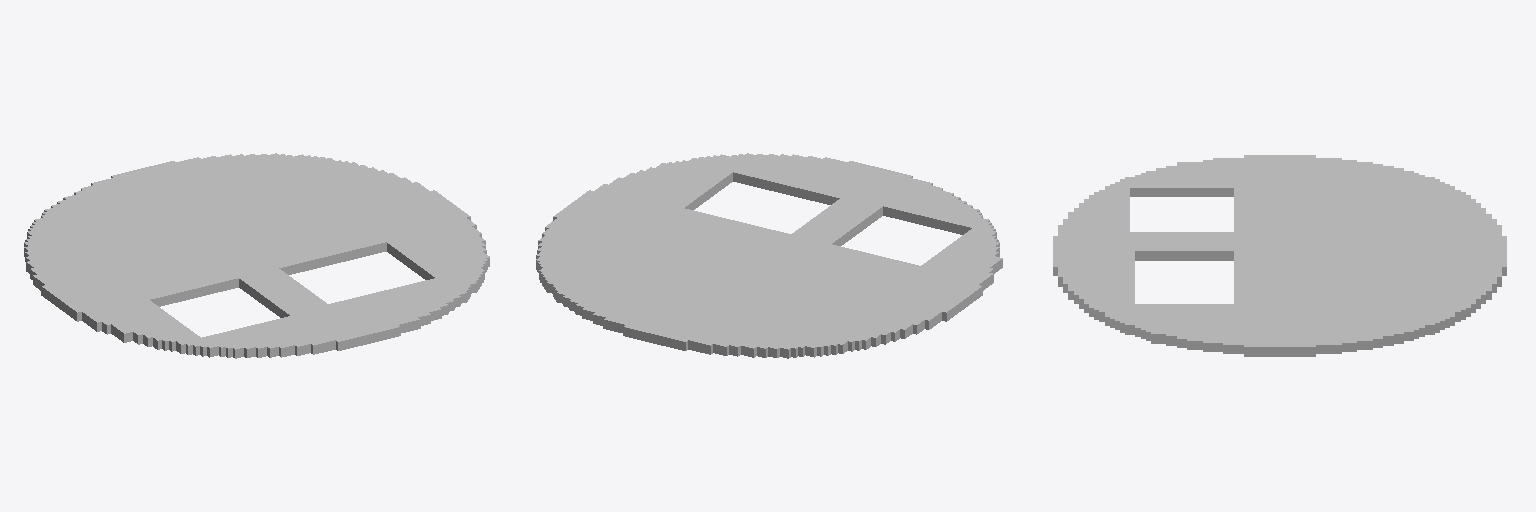
File: 2 лвл-6.obj
The picture shows the model from 3 angles: view 1: azimuth 30°, elevation 25°; view 2: azimuth 150°, elevation 25°; view 3: azimuth 270°, elevation 25°; orthographic projection.
Parts seen in each view (by area): view 1: object 1; view 2: object 1; view 3: object 1.
Part boxes in pixels (x1,y1,x2,y2): object 1: (24, 153, 489, 358); object 1: (536, 153, 1002, 358); object 1: (1053, 155, 1506, 356).
Size of the model in its own units: 8.8 by 0.2 by 8.8.